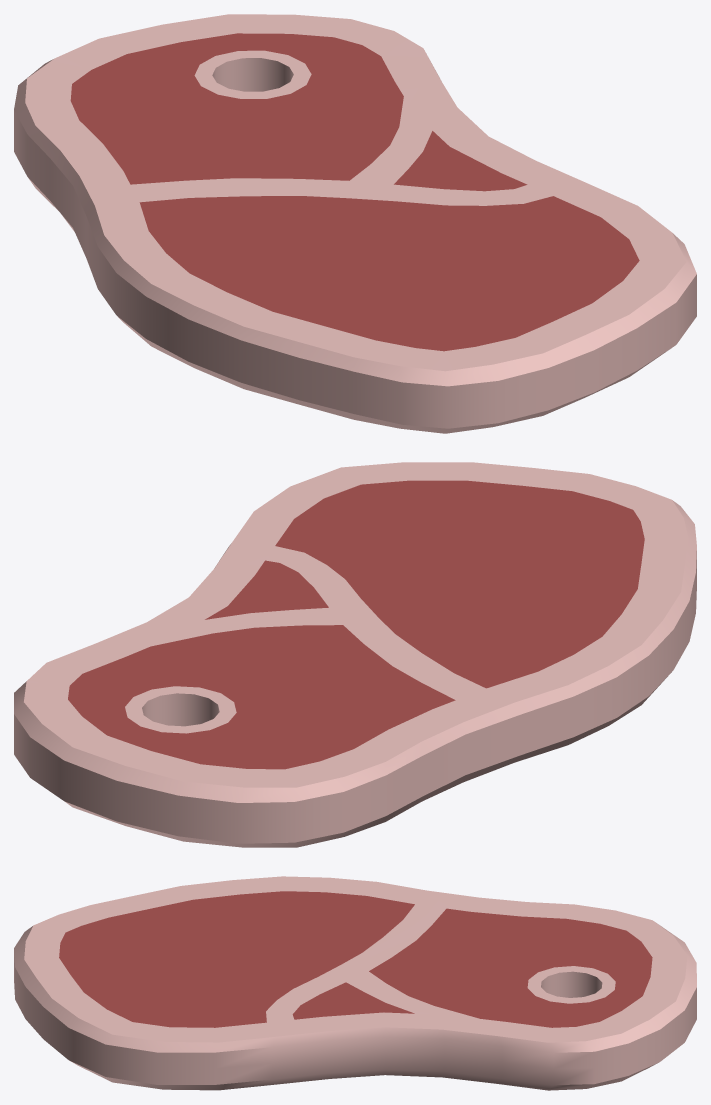
The model's file is steak.fbx.
3 views of the same model, one above another, from view 1: azimuth 30°, elevation 25°; view 2: azimuth 150°, elevation 25°; view 3: azimuth 270°, elevation 25° (orthographic). The views are drawn at different scales.
Parts seen in each view (by area): view 1: Plane.010; view 2: Plane.010; view 3: Plane.010.
Part boxes in pixels (x1,y1,x2,y2): Plane.010: (14,14,696,433); Plane.010: (14,462,696,847); Plane.010: (14,876,696,1090).
Size of the model in its own units: 66.16 by 8.62 by 112.
